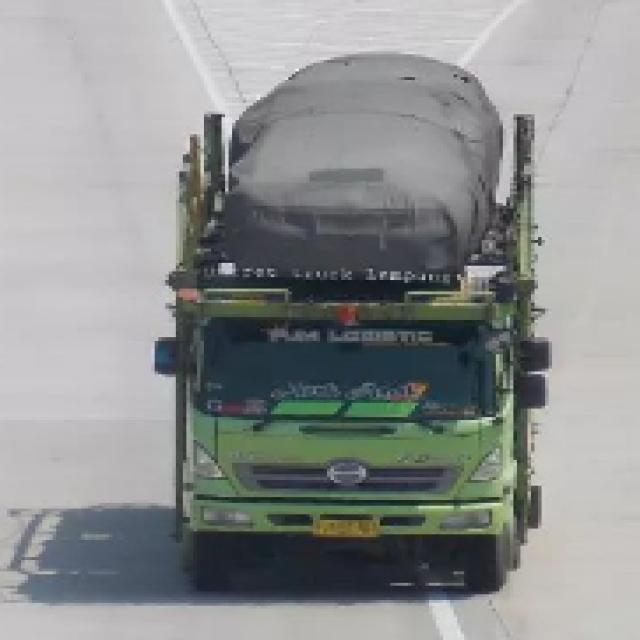Truck: (160, 66, 564, 611)
